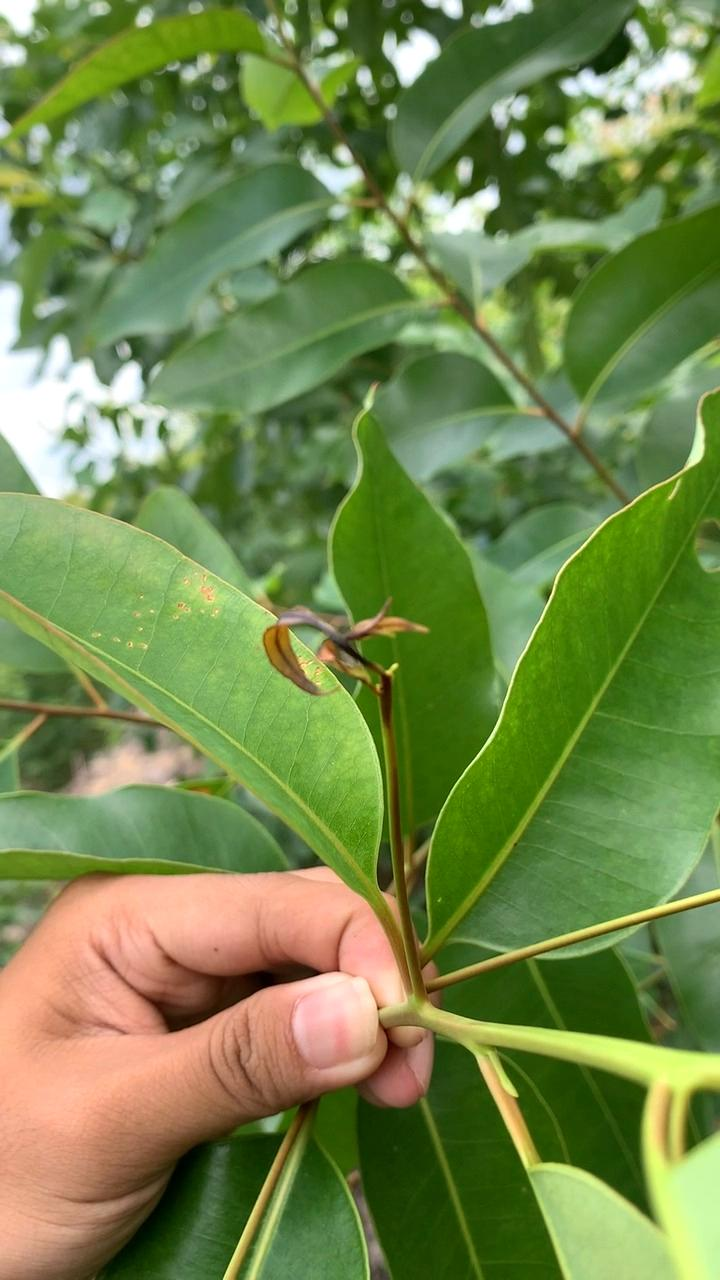Helopeltis-Withered Sprout: (255, 573, 417, 709)
